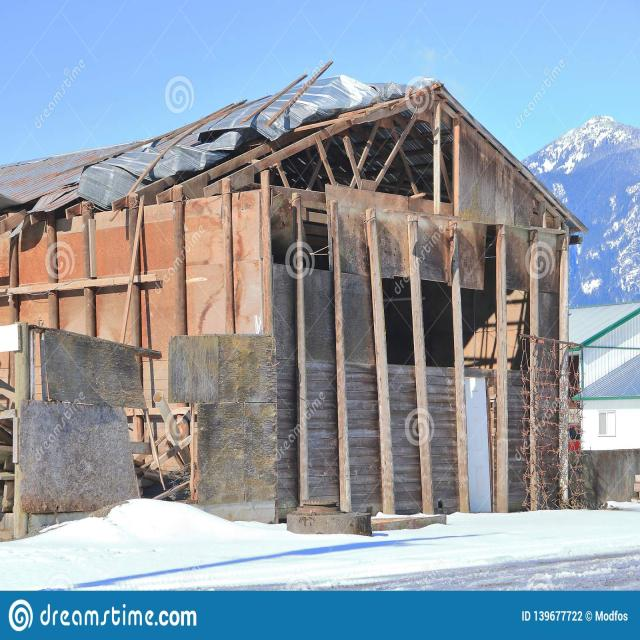Severely_Damaged: (70, 39, 590, 388)
